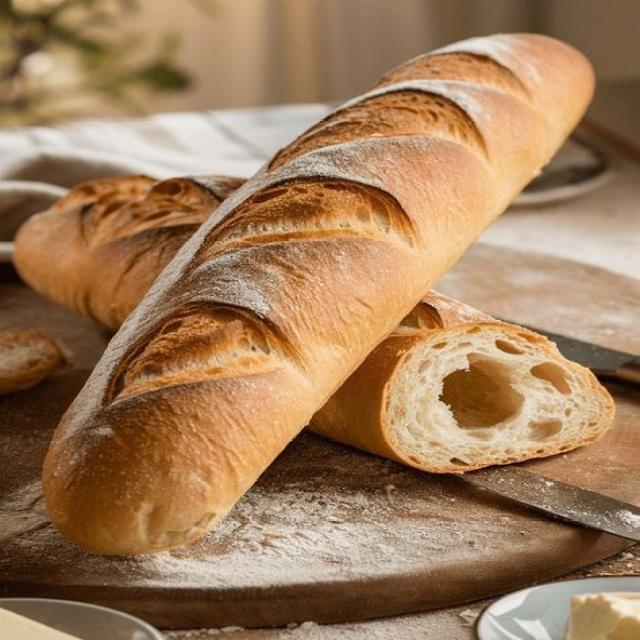bread: (44, 35, 592, 553), (311, 292, 614, 472), (14, 176, 243, 328), (77, 179, 210, 323), (0, 331, 64, 394)
